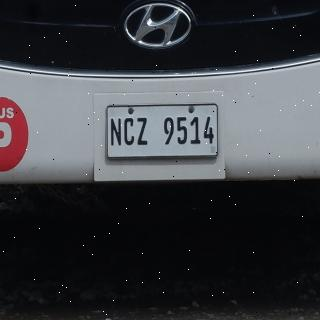license: (108, 105, 219, 159)
